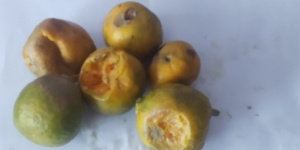BAD: (7, 72, 85, 148), (123, 83, 207, 150), (15, 15, 95, 80), (75, 44, 141, 122), (95, 1, 166, 58), (142, 48, 205, 88)
